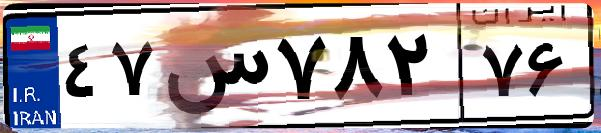2: (385, 28, 445, 110)
4: (57, 26, 110, 100)
6: (525, 38, 570, 115)
7: (270, 28, 330, 110), (475, 38, 525, 113), (110, 28, 158, 98)
8: (330, 28, 385, 110)
س: (158, 20, 270, 120)
